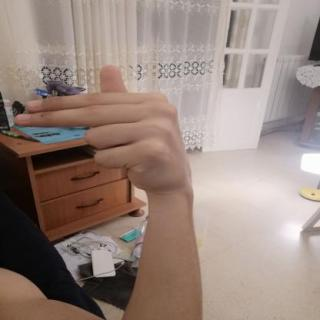GHAYN: (3, 59, 200, 196)
